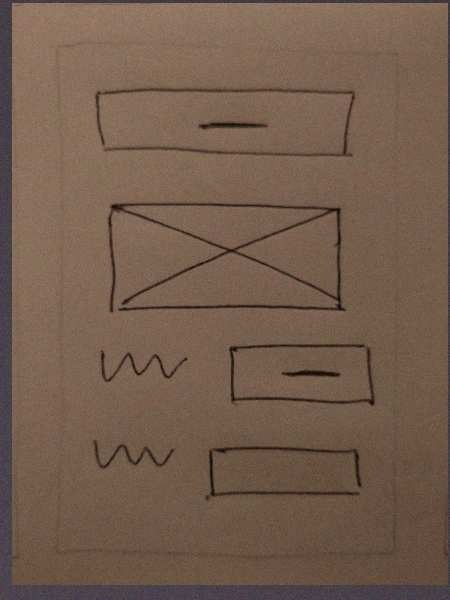button: (91, 79, 359, 166), (221, 338, 379, 409)
image: (100, 196, 351, 318)
text: (92, 341, 195, 389), (87, 435, 178, 474)
text_input: (205, 440, 366, 505)
